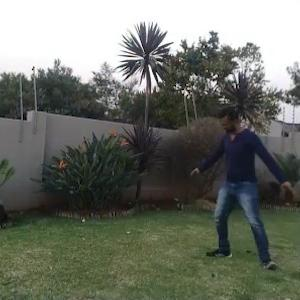land: (184, 96, 296, 280)
